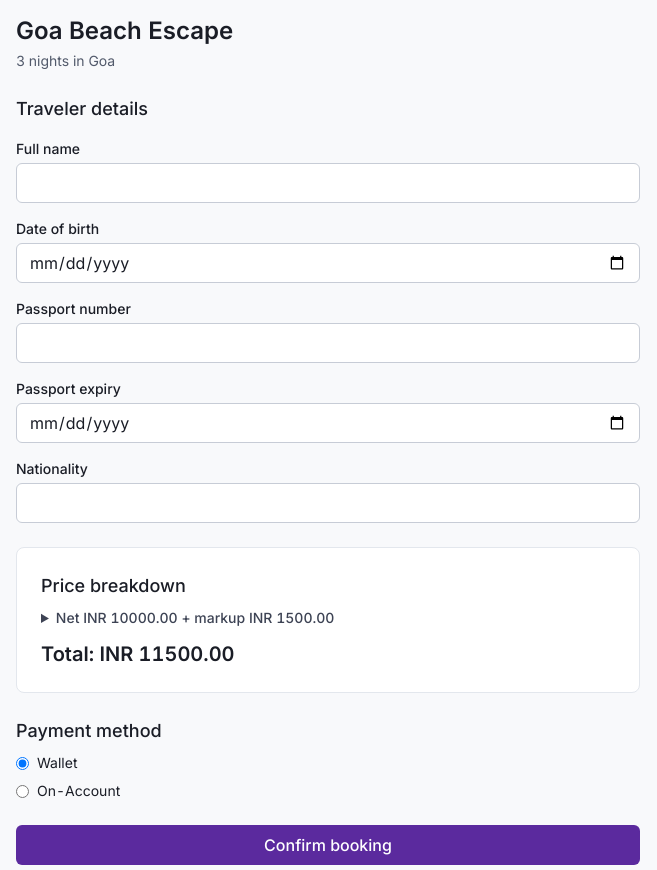
BookingPaymentFlow (HRD-15, completing BOK-13) › shows an inline error and does not crash when confirming the booking fails
Expected: the heading "Goa Beach Escape" is shown, [16, 16, 233, 45]
Type "Jane Traveler" into the field labelled "Full name" at (328, 183), box [16, 163, 640, 203]
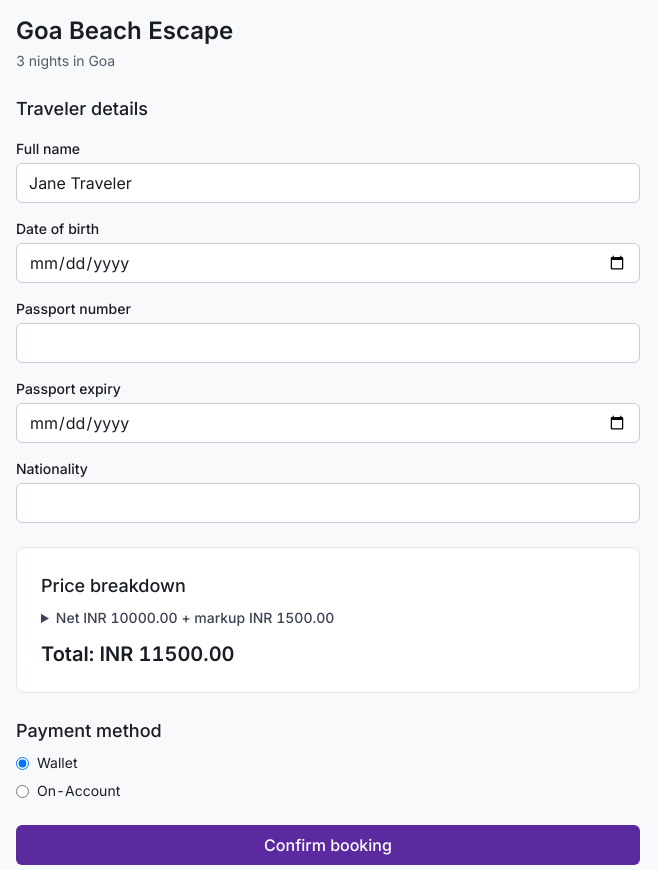
Type "1990-05-01" into the date field labelled "Date of birth" at (328, 263), box [16, 243, 640, 283]
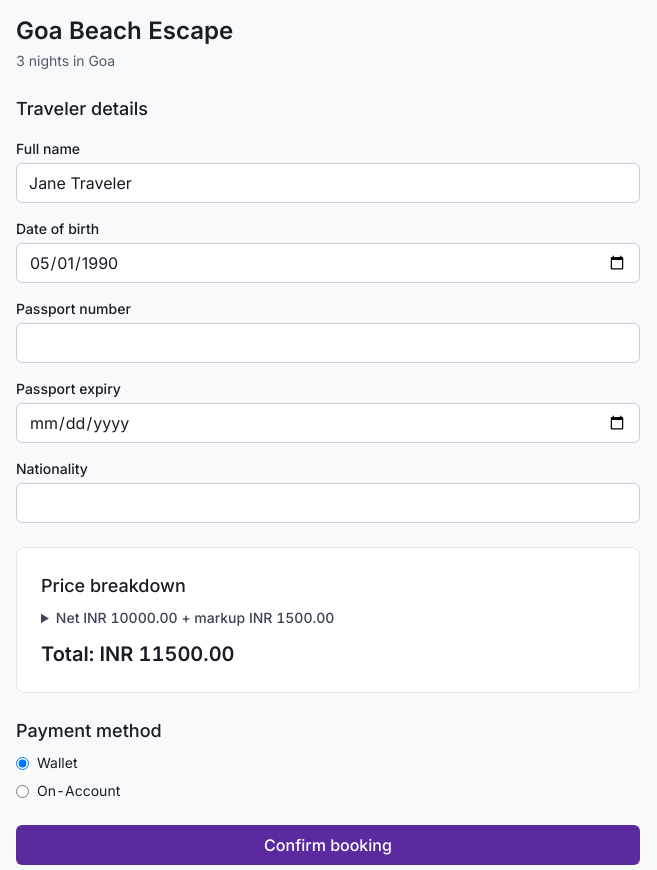
Click the button "Confirm booking" at (328, 845), box [16, 825, 640, 865]
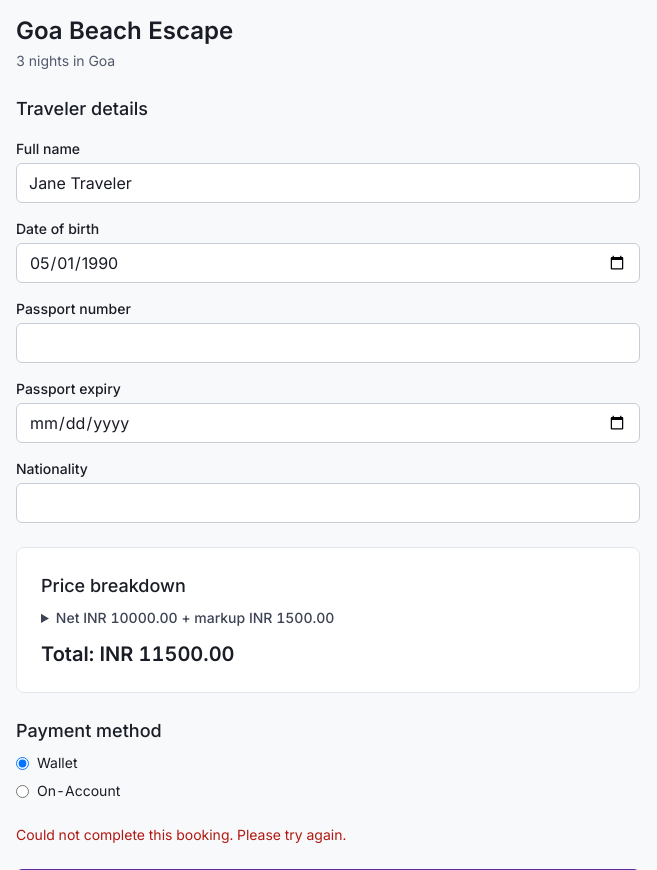
Expected: the message shows "Could not complete this booking", [16, 826, 346, 843]
